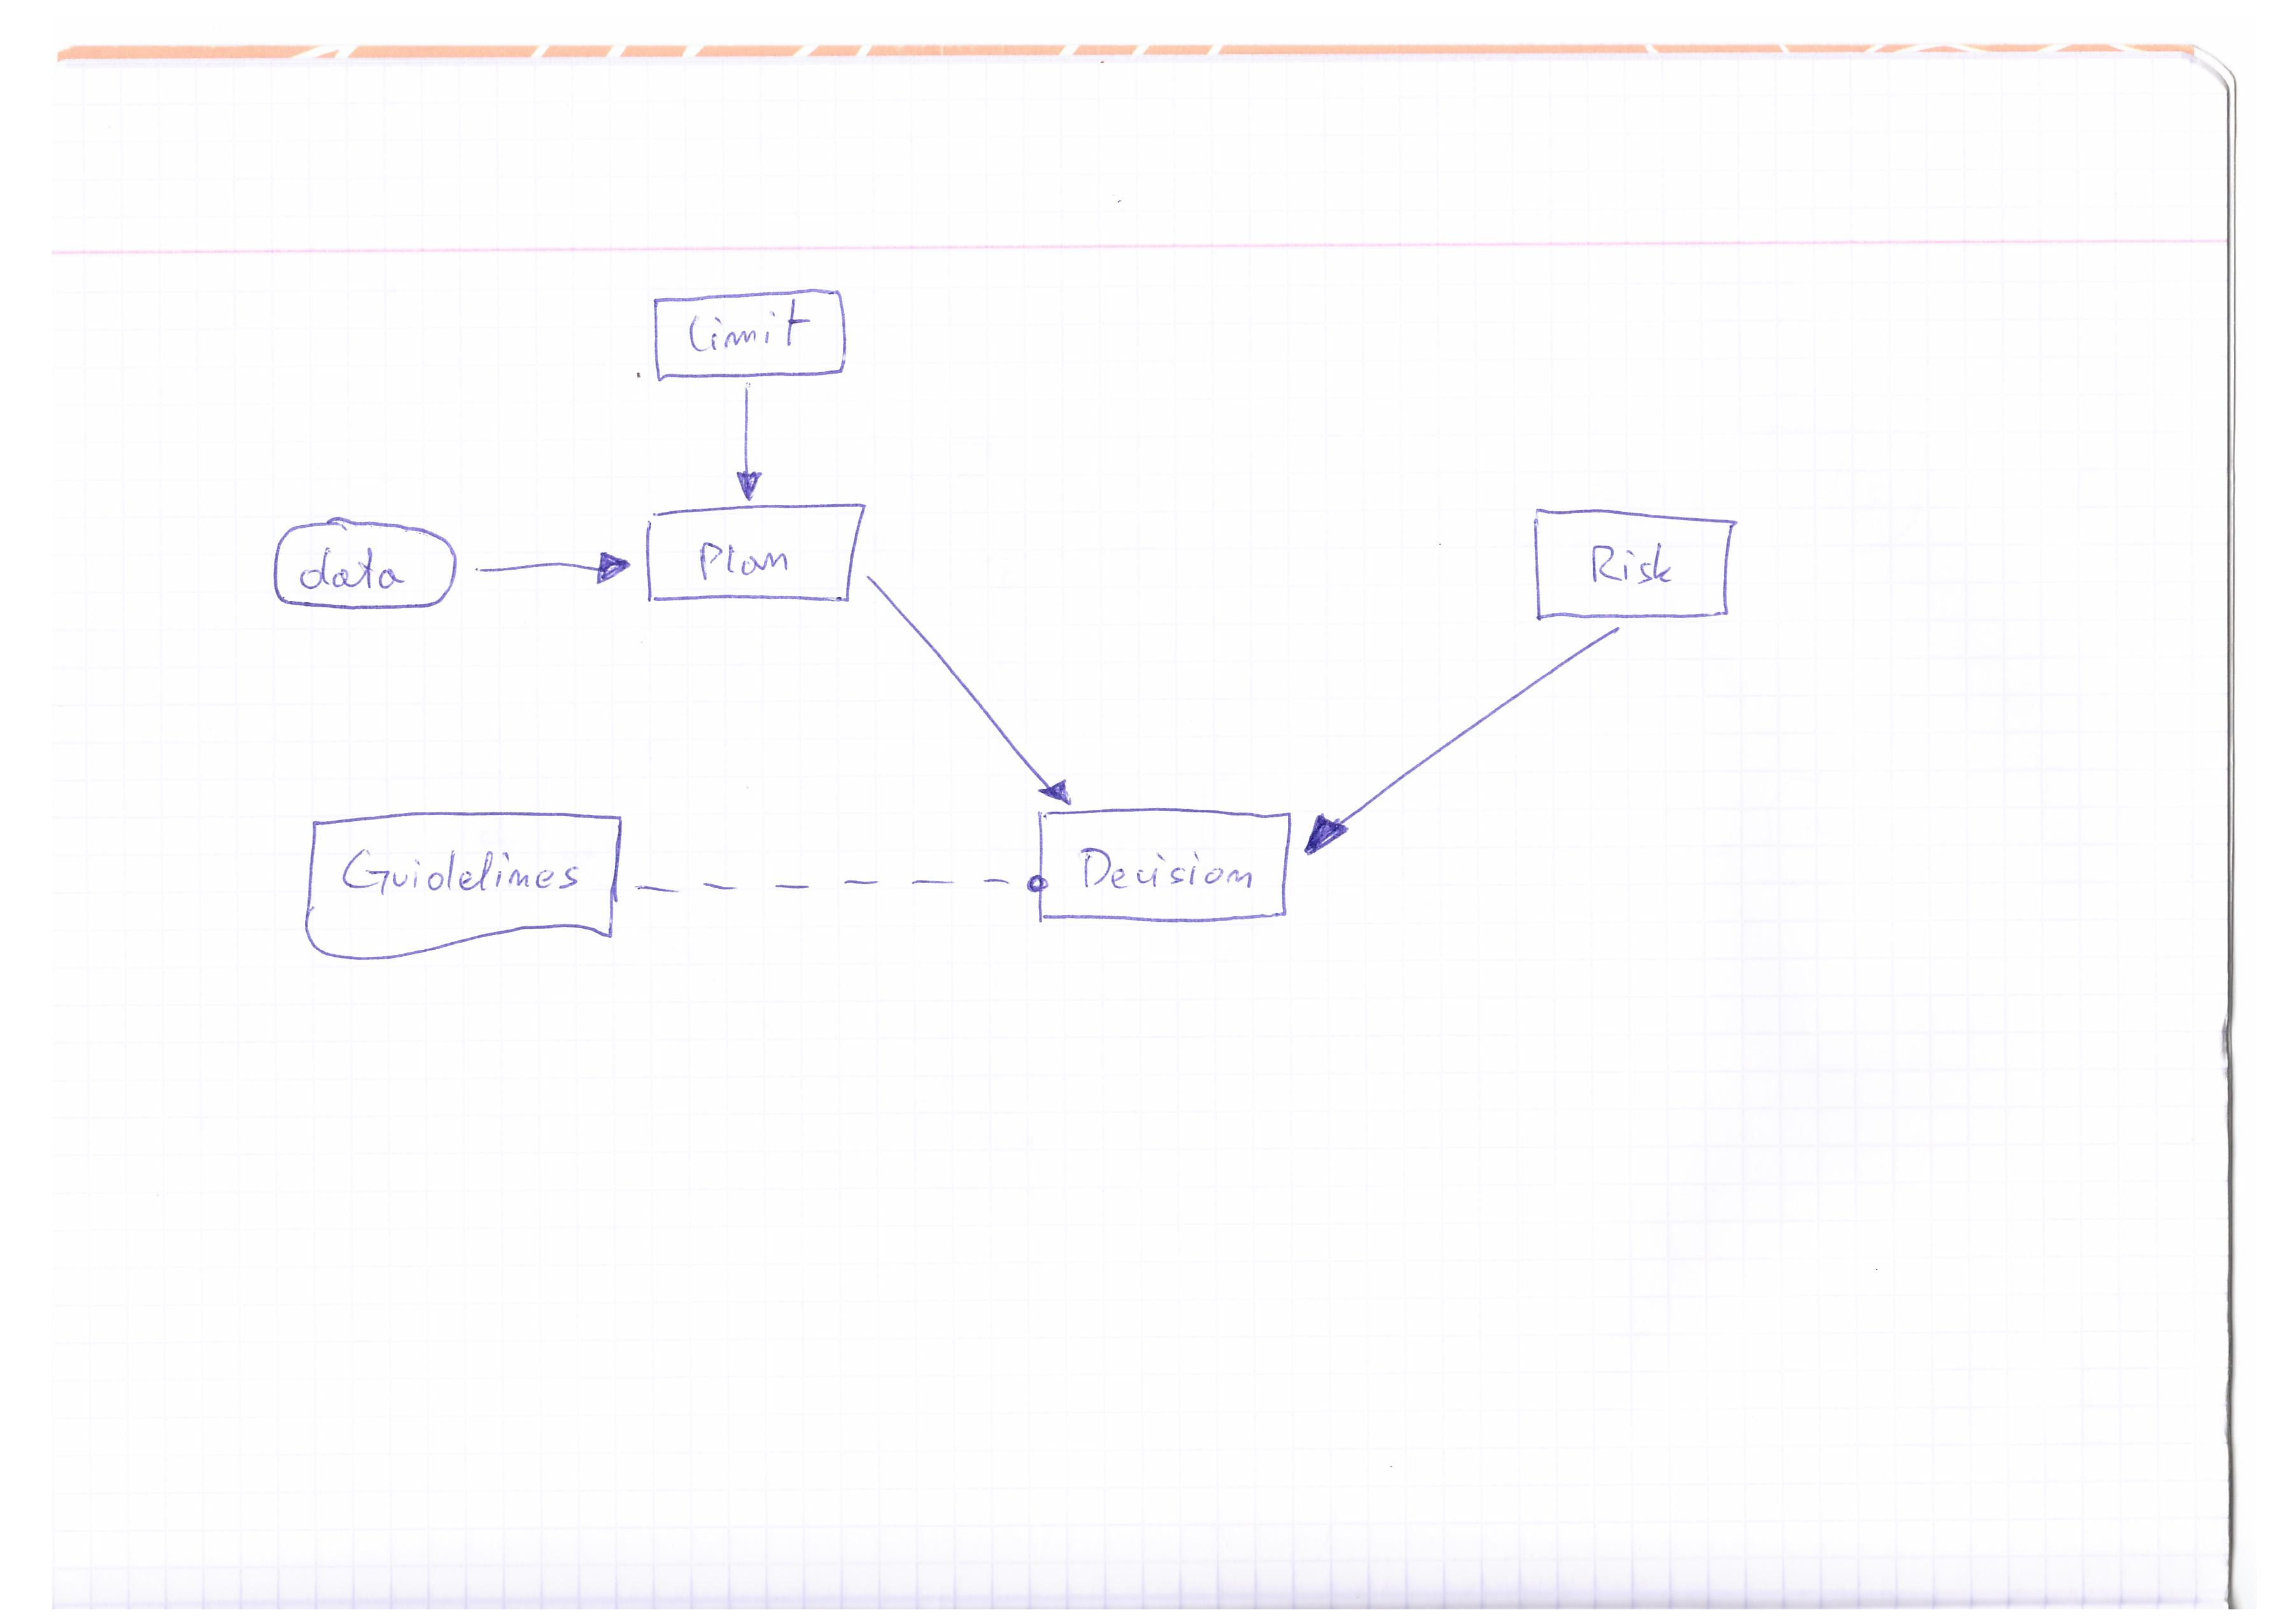arrow_authority_requirement: (622, 866, 1053, 914)
arrow_information_requirement: (1304, 622, 1634, 870), (857, 561, 1089, 812), (464, 548, 634, 596), (724, 380, 771, 508)
node_decision: (1031, 805, 1300, 930), (1522, 497, 1743, 631), (633, 504, 872, 617), (641, 281, 854, 385)
node_input_data: (265, 508, 469, 622)
node_knowledge_source: (293, 801, 631, 963)
text: (330, 830, 594, 910), (1054, 831, 1267, 896), (678, 302, 817, 362), (288, 534, 415, 598), (1573, 529, 1687, 598), (677, 531, 803, 587)
